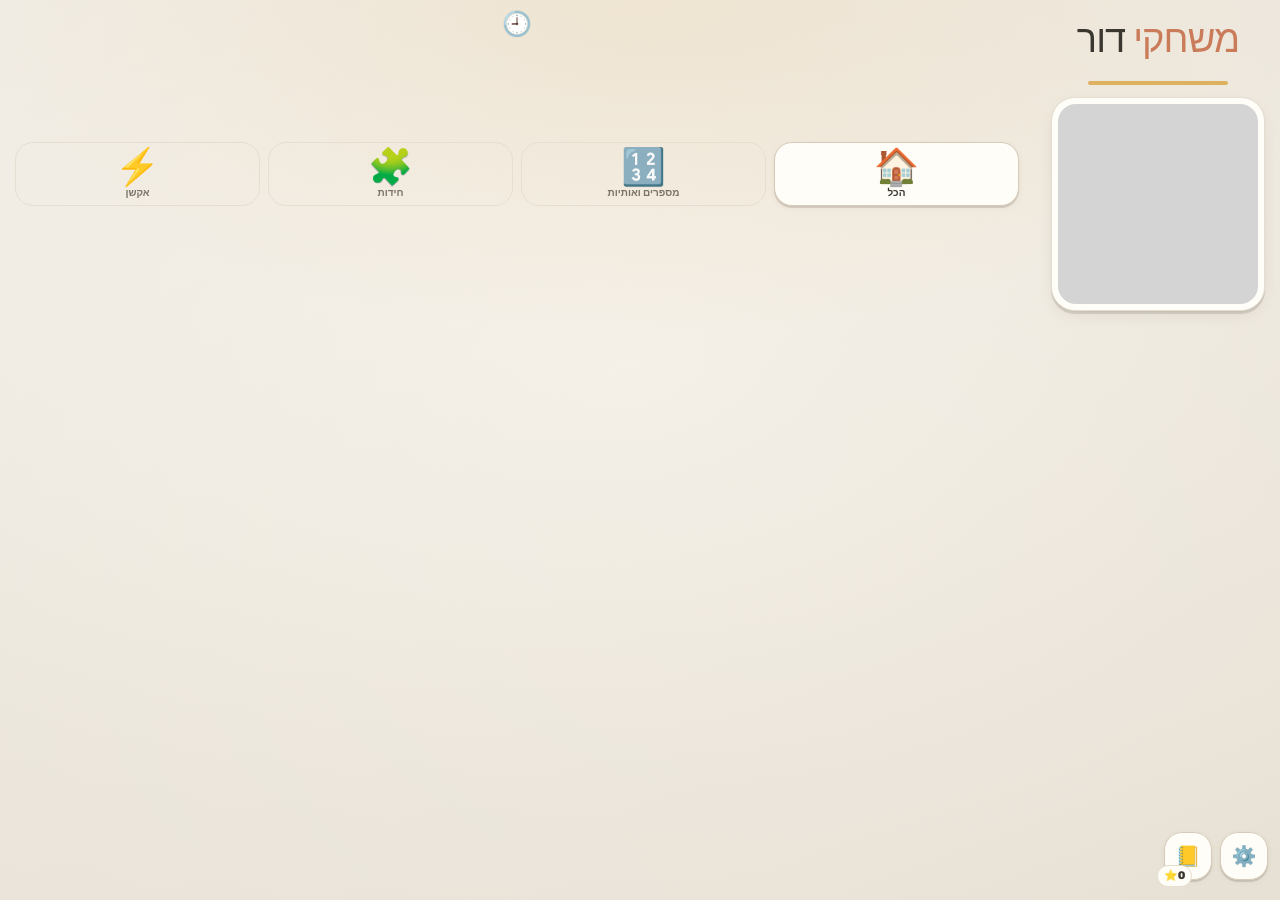
Scenario: MainMenu › shows recent games and filters by category tab
Expected: the element with test id "recent-row" is shown, 502,10 -> 532,38
Click the tab with test id "tab-action" at coordinates (138, 174), box 15,142 -> 260,206
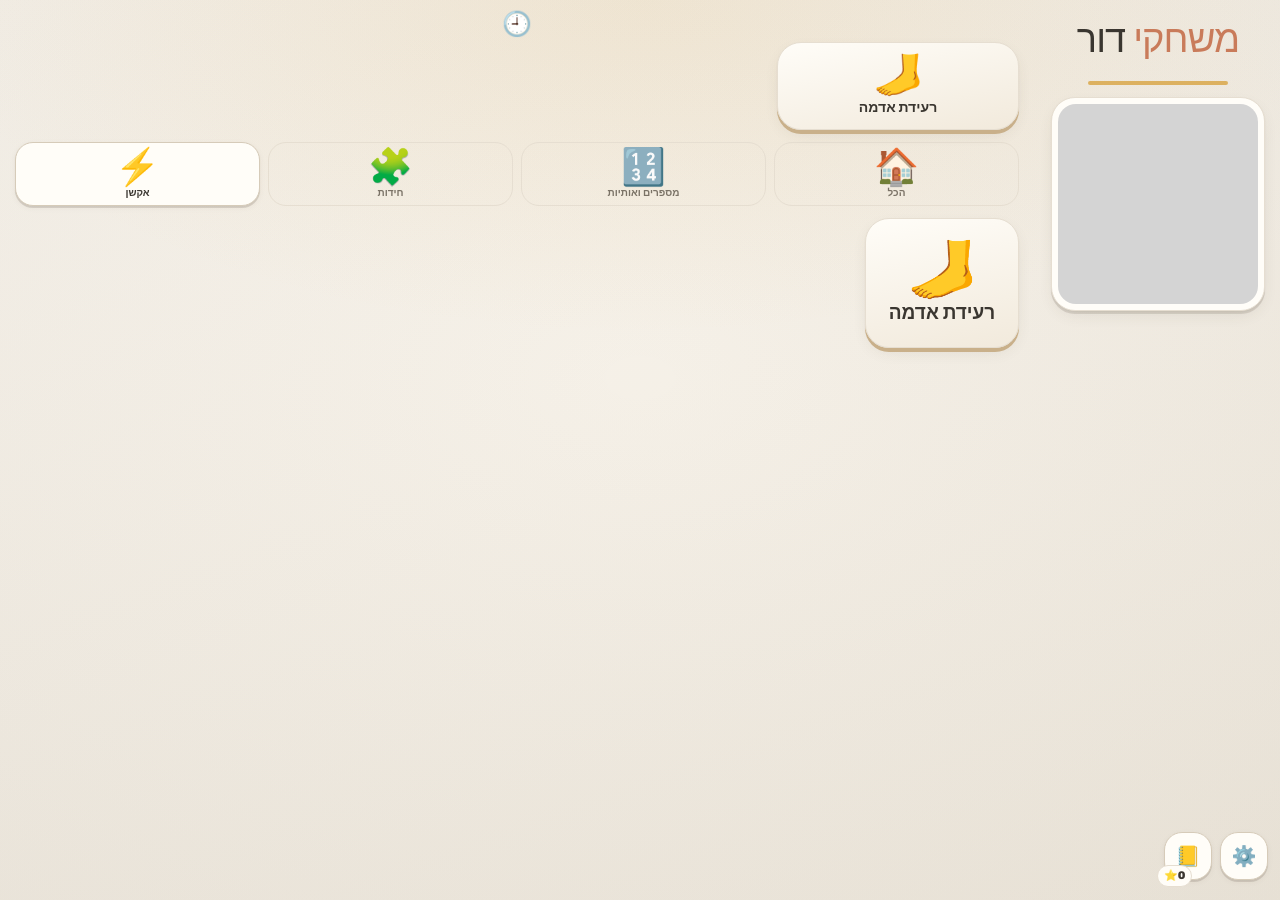
Expected: the button with test id "tile-dino-stomp" is shown, 777,42 -> 1019,130
